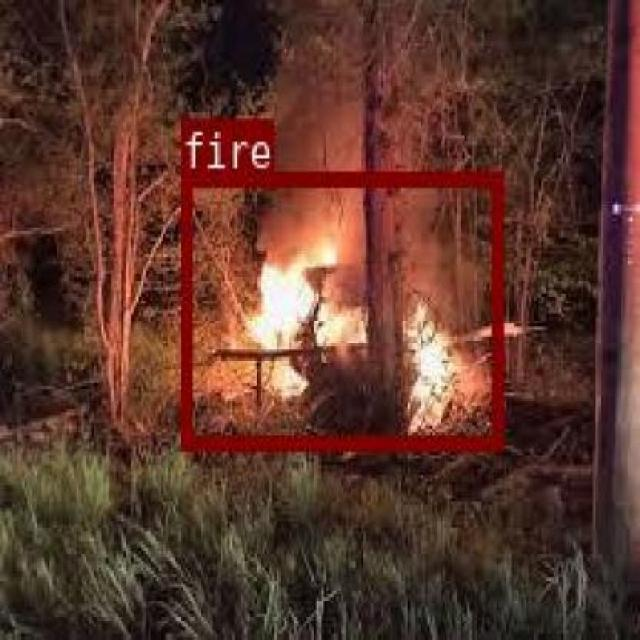Fire: (179, 169, 501, 446)
